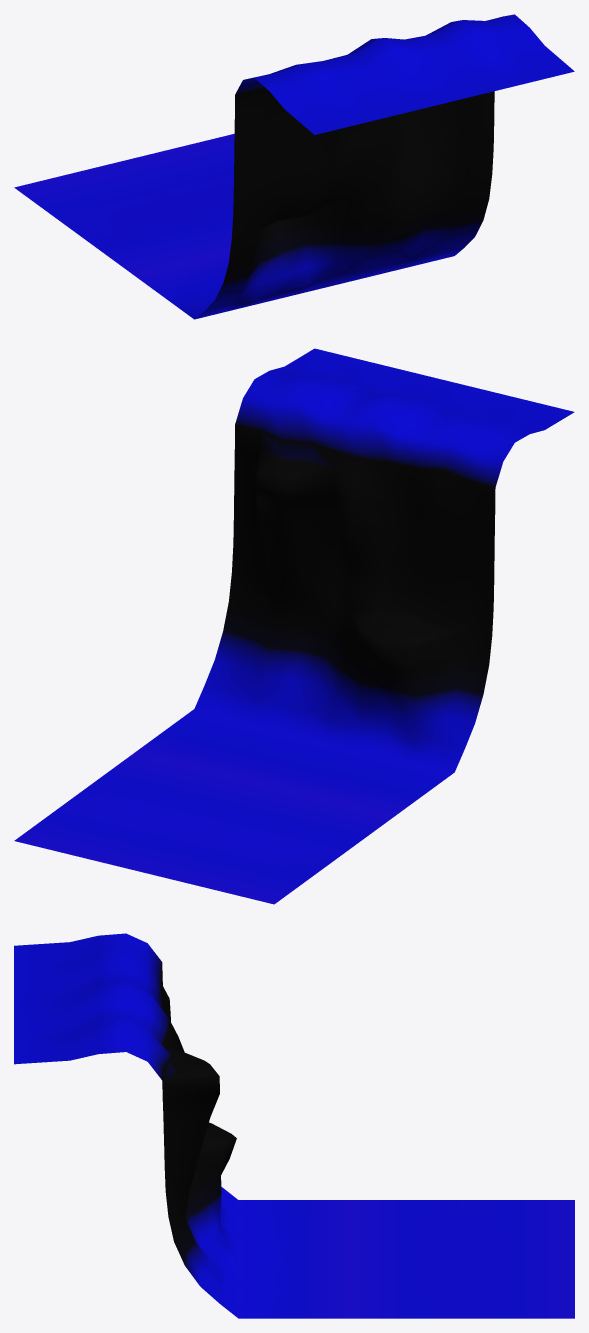
Rendered from WaterFallCliff01C 2M.fbx.
3 renders of one model, top to bottom at view 1: azimuth 30°, elevation 25°; view 2: azimuth 150°, elevation 25°; view 3: azimuth 270°, elevation 25°, orthographic. The views are drawn at different scales.
Parts seen in each view (by area): view 1: WaterFallCliff01C 2M; view 2: WaterFallCliff01C 2M; view 3: WaterFallCliff01C 2M.
Boxes of the visible parts, <box> form: WaterFallCliff01C 2M: <box>14,14,574,319</box>; WaterFallCliff01C 2M: <box>14,348,574,904</box>; WaterFallCliff01C 2M: <box>14,933,574,1318</box>.
Size of the model in its own units: 1 by 1.08 by 2.
